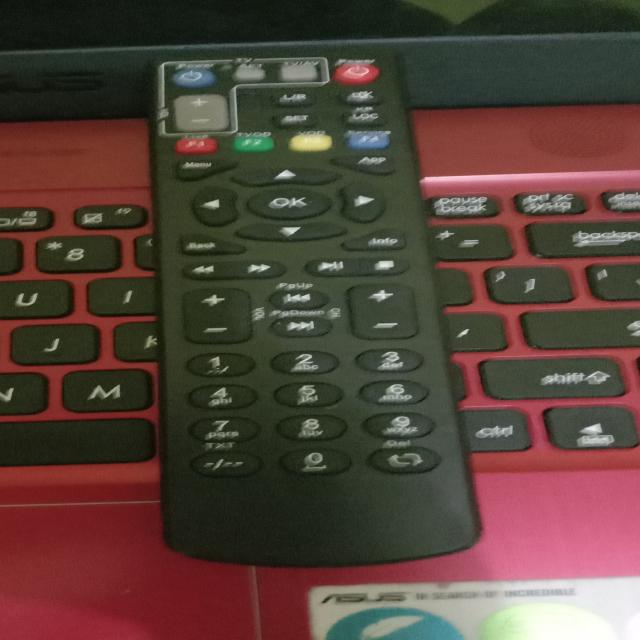remote: (131, 46, 485, 574)
